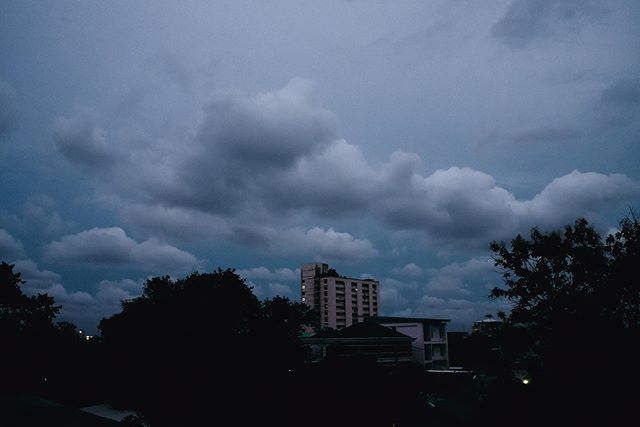building: (296, 259, 389, 323)
sky: (1, 1, 628, 286)
vegetation: (1, 287, 284, 427), (469, 227, 640, 427)
